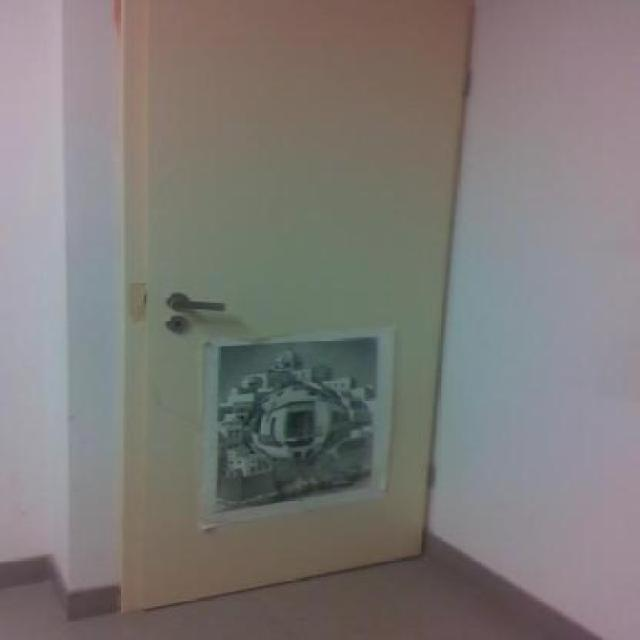door_handle: (161, 291, 236, 320)
